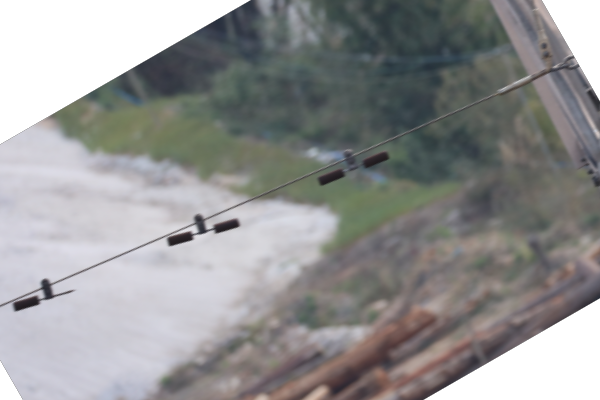damper: (163, 210, 241, 249), (314, 147, 391, 186)
damper_defect: (10, 278, 78, 314)
